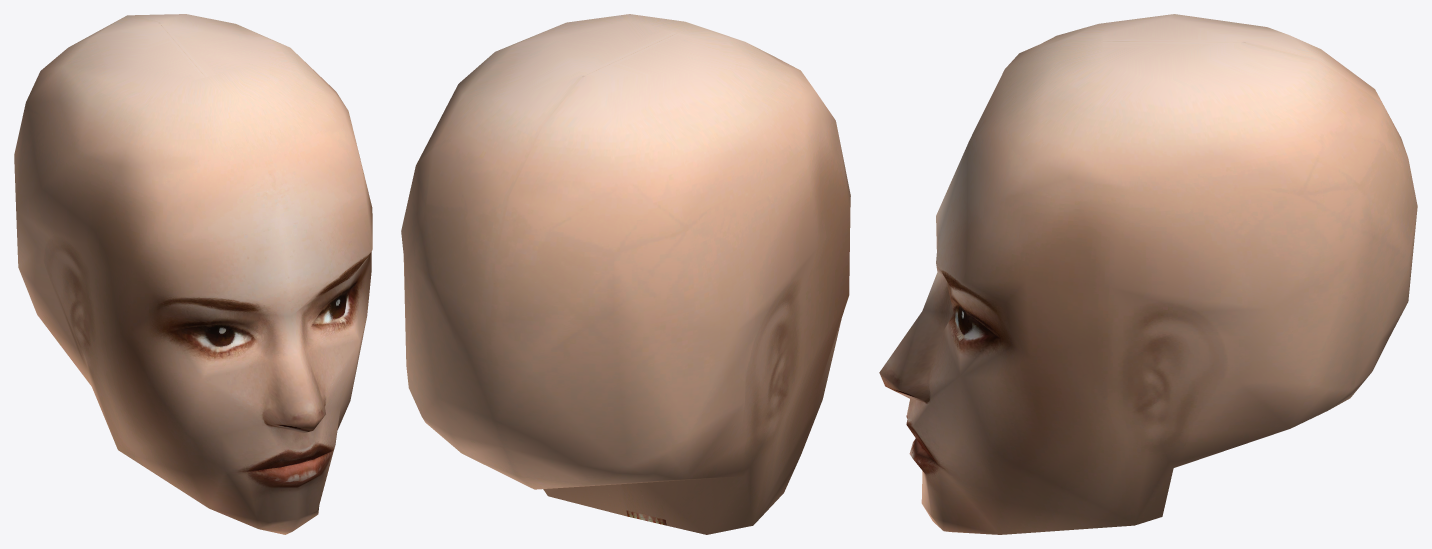
The model's file is b_n_breton_f_head_02.glb.
3 renders of one model, left to right at view 1: azimuth 30°, elevation 25°; view 2: azimuth 150°, elevation 25°; view 3: azimuth 270°, elevation 25°, orthographic. The views are drawn at different scales.
Visible parts, largest first — view 1: Tri B_N_Breton_F_Head_02; view 2: Tri B_N_Breton_F_Head_02; view 3: Tri B_N_Breton_F_Head_02.
Part boxes in pixels (x1,y1,x2,y2): Tri B_N_Breton_F_Head_02: (14, 14, 372, 534); Tri B_N_Breton_F_Head_02: (401, 14, 850, 534); Tri B_N_Breton_F_Head_02: (879, 14, 1417, 534).
Size of the model in its own units: 0.1001 by 0.1525 by 0.1519.
1 material, 1 textured.
